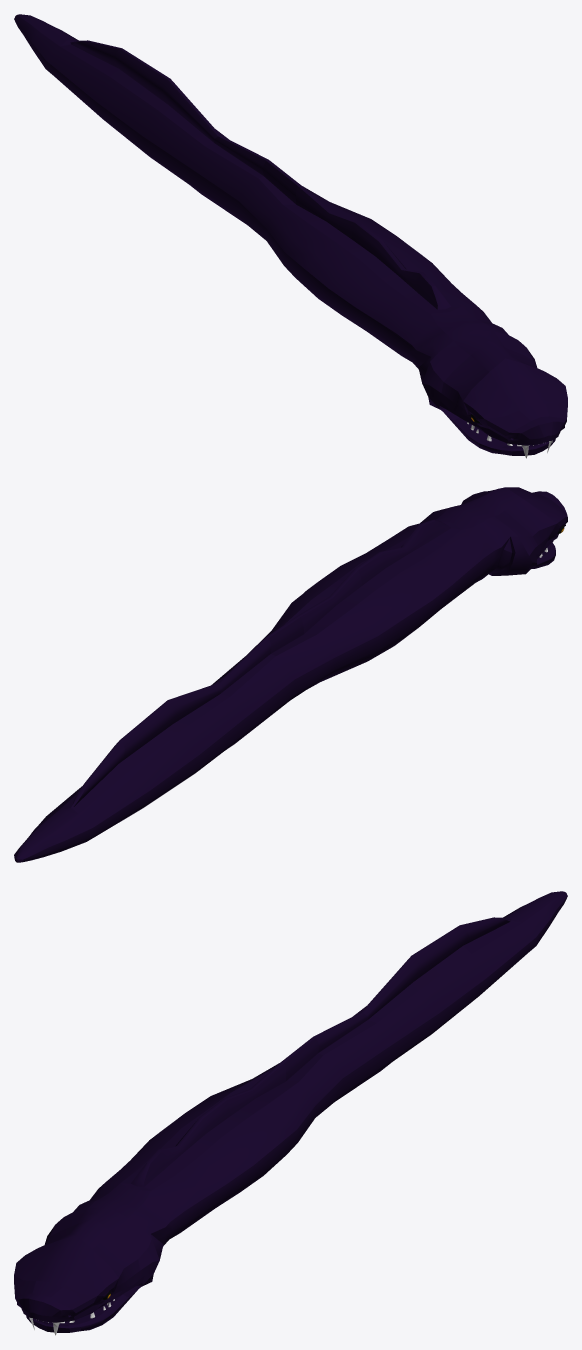
Rendered from snek_test.fbx.
The picture shows the model from 3 angles, top to bottom: view 1: azimuth 30°, elevation 25°; view 2: azimuth 150°, elevation 25°; view 3: azimuth 330°, elevation 25°; orthographic projection.
Visible parts, largest first — view 1: snek_geo; view 2: snek_geo; view 3: snek_geo.
Boxes of the visible parts, <box> form: snek_geo: <box>14,14,567,455</box>; snek_geo: <box>14,487,567,862</box>; snek_geo: <box>14,891,567,1332</box>.
Size of the model in its own units: 6.47 by 6.52 by 55.7.
